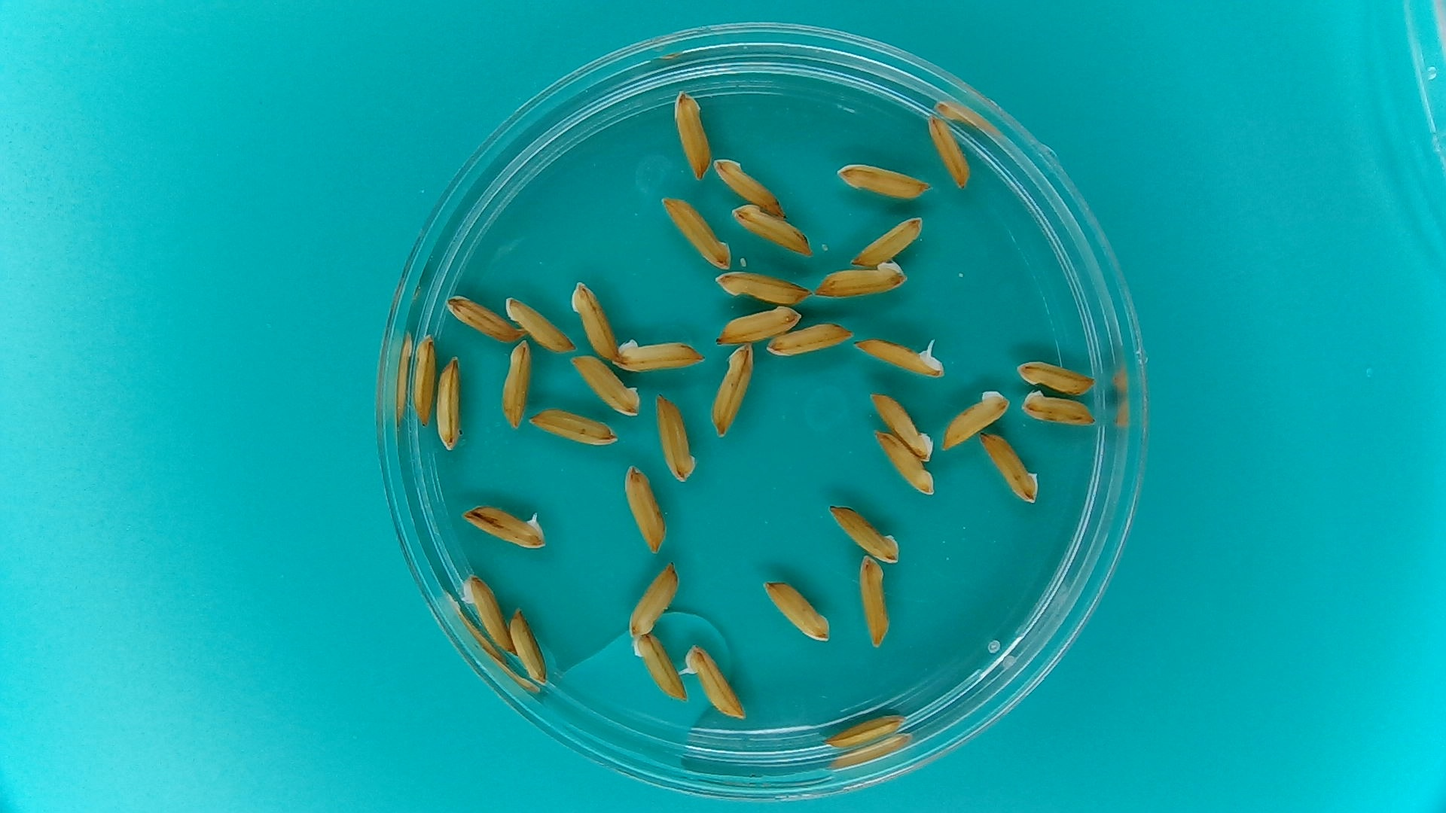no: (660, 195, 732, 270), (709, 342, 758, 438), (569, 353, 642, 417), (730, 203, 813, 259), (459, 571, 514, 655), (870, 389, 933, 462), (827, 503, 901, 565), (941, 388, 1011, 453), (763, 577, 831, 643), (712, 157, 785, 217), (980, 431, 1039, 505), (655, 389, 700, 486), (503, 297, 577, 355), (621, 464, 668, 554), (874, 428, 937, 495), (629, 559, 682, 635), (569, 279, 618, 360), (712, 303, 804, 346), (834, 162, 933, 201), (671, 87, 712, 181), (632, 632, 687, 702), (850, 215, 924, 266), (444, 294, 526, 340), (813, 261, 911, 299), (714, 269, 813, 306), (926, 111, 971, 191), (529, 408, 618, 448), (508, 607, 551, 687), (821, 710, 907, 750), (766, 321, 852, 360), (859, 555, 891, 650), (1015, 361, 1099, 397), (1020, 389, 1097, 428), (613, 340, 706, 372), (501, 339, 531, 430), (435, 355, 462, 455), (412, 333, 438, 431)
yes: (670, 645, 746, 720), (854, 332, 947, 379), (461, 502, 548, 551)
